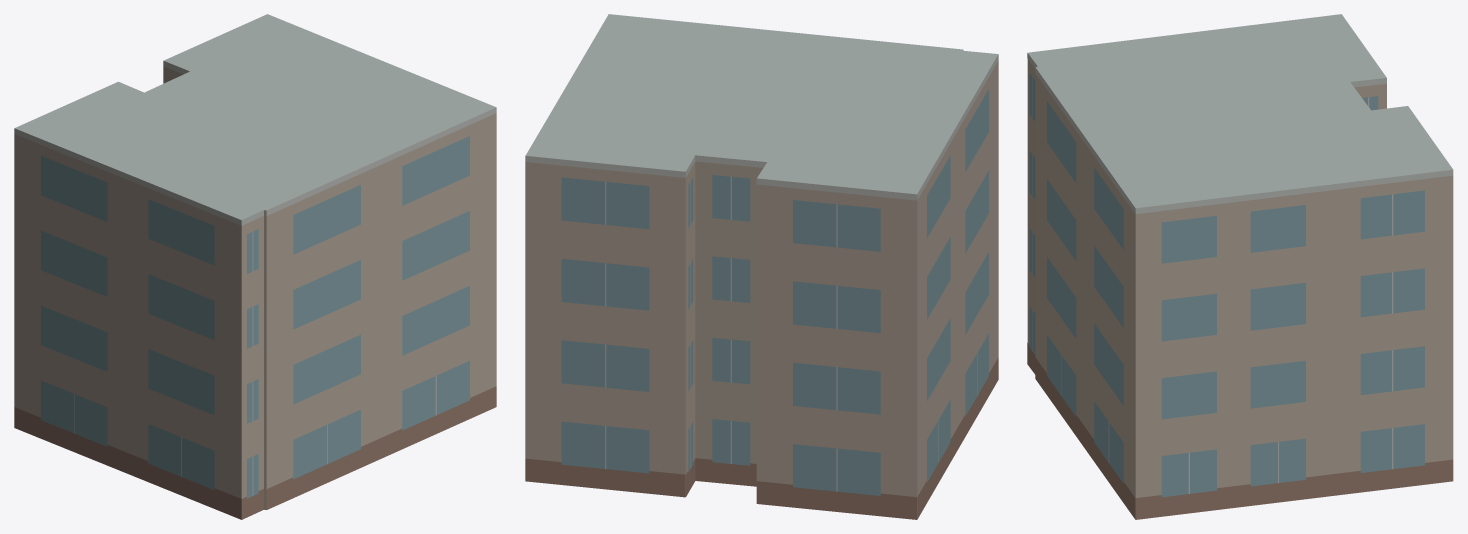
Rendered from survey-upis-33013838.glb.
3 views of the same model, side by side, from view 1: azimuth 30°, elevation 25°; view 2: azimuth 150°, elevation 25°; view 3: azimuth 270°, elevation 25° (orthographic). The views are drawn at different scales.
Parts seen in each view (by area): view 1: survey-upis-33013838.tmp; view 2: survey-upis-33013838.tmp; view 3: survey-upis-33013838.tmp.
Boxes of the visible parts, x1,y1,x2,y2 form: survey-upis-33013838.tmp: (14, 14, 496, 519); survey-upis-33013838.tmp: (525, 14, 998, 519); survey-upis-33013838.tmp: (1027, 14, 1453, 519).
Size of the model in its own units: 17.27 by 12.9 by 15.99.
